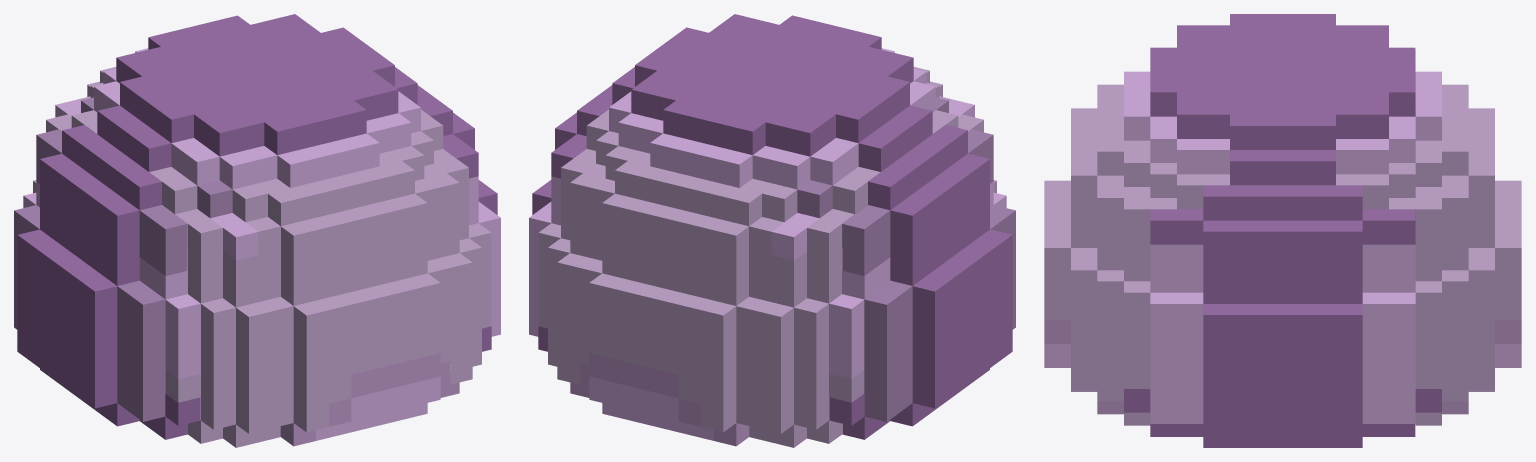
File: 10_form_purple.glb
The picture shows the model from 3 angles, left to right: view 1: azimuth 30°, elevation 25°; view 2: azimuth 150°, elevation 25°; view 3: azimuth 270°, elevation 25°; orthographic projection. The views are drawn at different scales.
Bounding box in the file's own units: 18 × 12 × 18.
